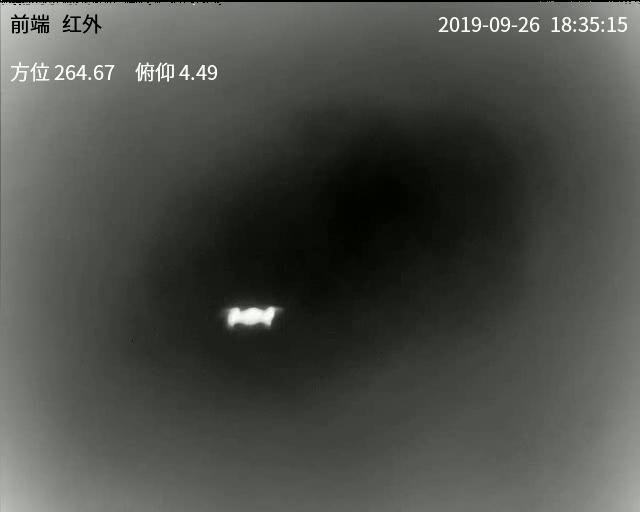DRONE: (225, 305, 277, 328)
